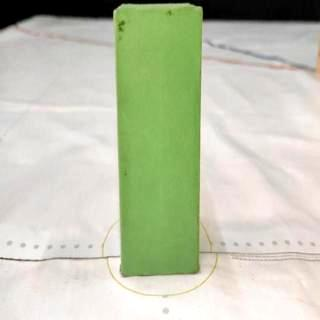greenbox: (110, 2, 205, 280)
